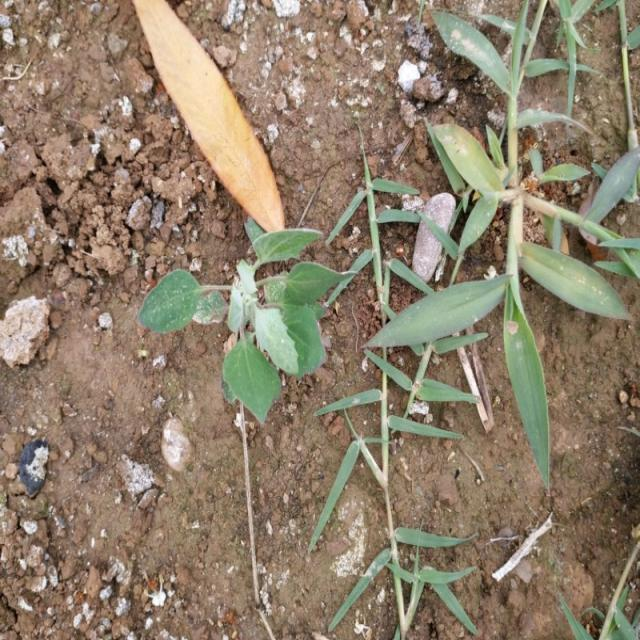ca: (138, 227, 344, 431)
